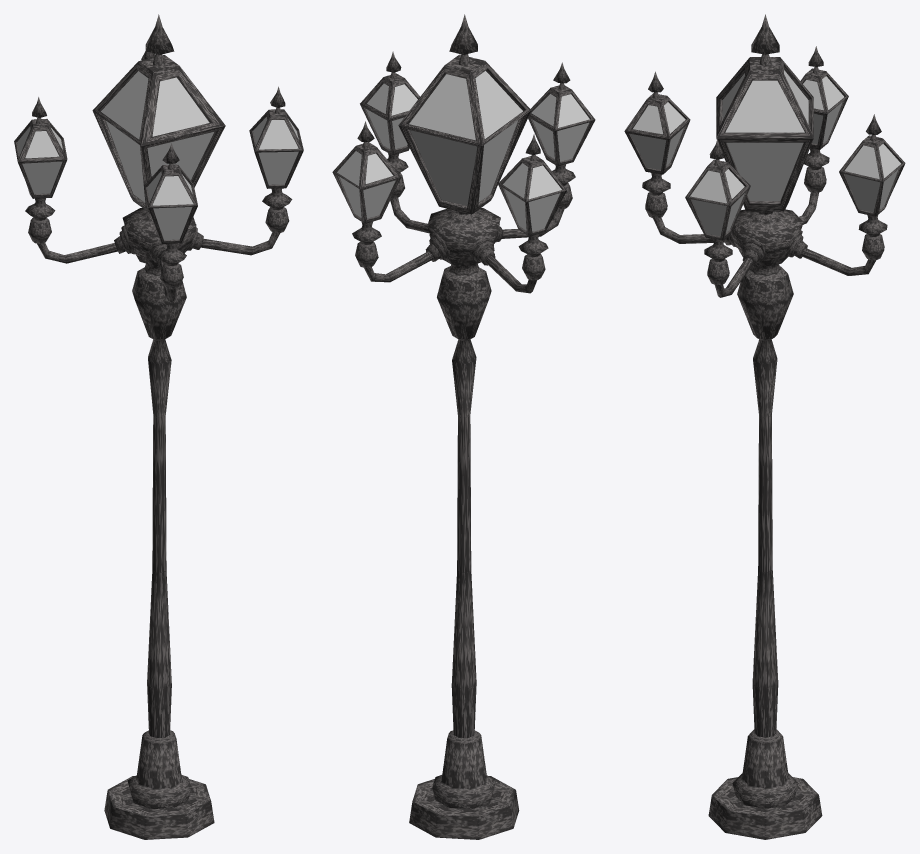
File: STLamp.obj
The picture shows the model from 3 angles, left to right: view 1: azimuth 30°, elevation 25°; view 2: azimuth 150°, elevation 25°; view 3: azimuth 270°, elevation 25°; orthographic projection.
Size of the model in its own units: 1.27 by 4 by 1.27.
